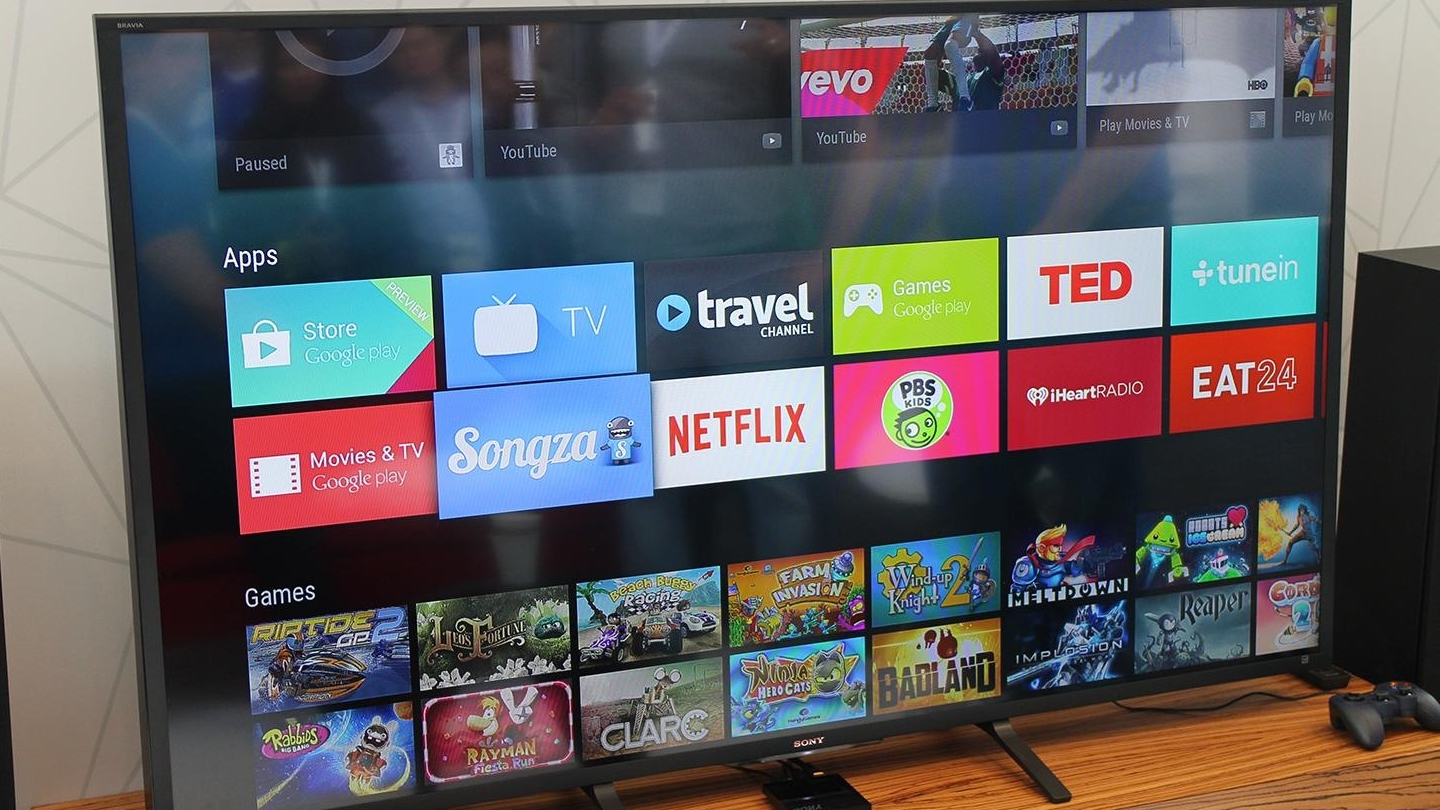tv: (76, 10, 1382, 770)
